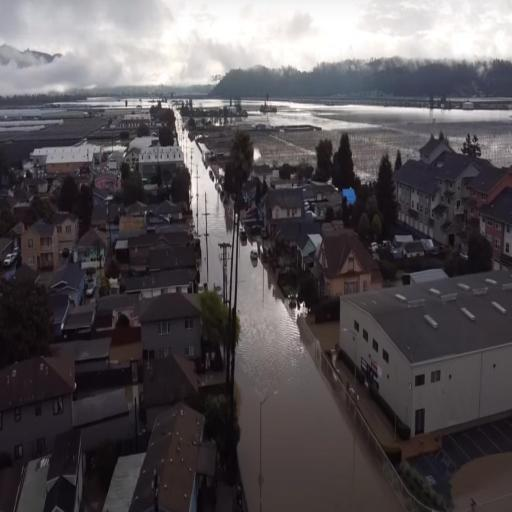flood: (236, 242, 402, 511), (244, 100, 512, 180), (176, 110, 232, 288), (452, 452, 512, 512)
house: (341, 270, 512, 436), (126, 401, 206, 512), (0, 352, 74, 464), (140, 289, 204, 382), (316, 226, 373, 312), (393, 158, 442, 238), (469, 164, 512, 250), (483, 183, 512, 268), (20, 218, 58, 275), (138, 142, 185, 182), (262, 188, 306, 229), (59, 209, 79, 239)
